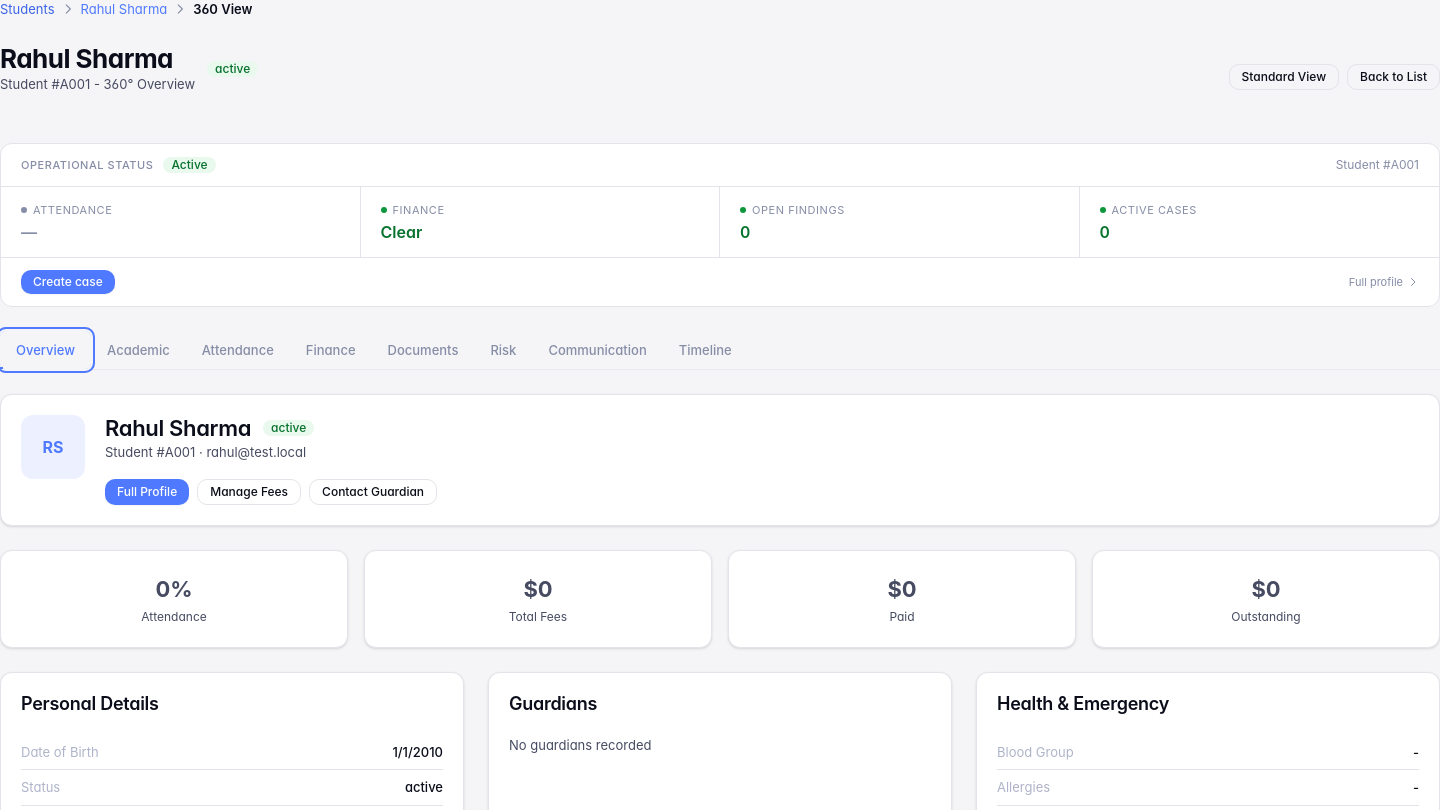
Test: Student 360 page — lifecycle & documents › P15 — Communication tab shows real context-linked messages
Note: The tab is mounted lazily — clicking it triggers the real fetch.
What coordinates should you click on to do the following:
click the tab "Communication"
I would click on:
 (598, 350)
Its box is [532,331,663,369].
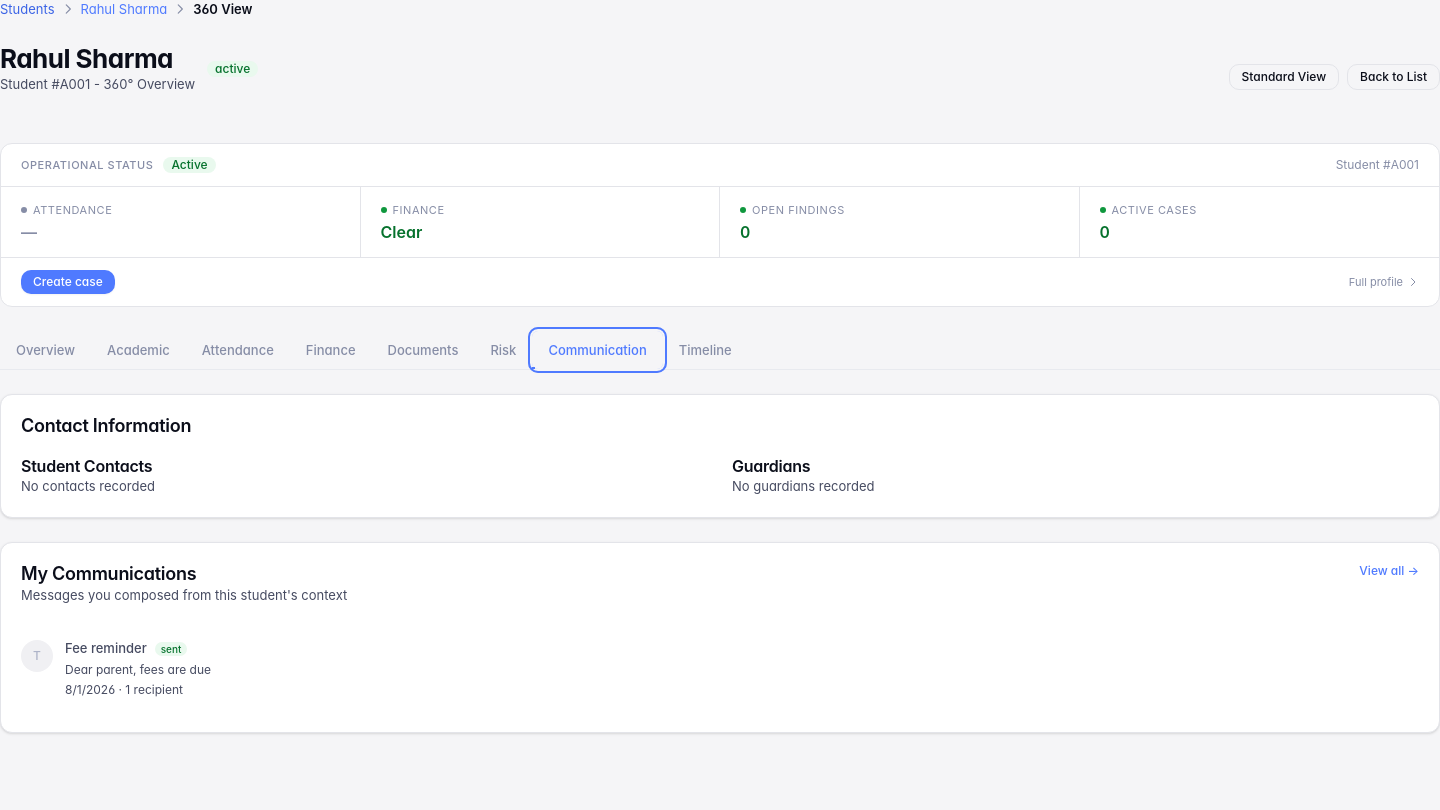
Now the text "Fee reminder" is shown, box [65,638,147,660]
Now the text "sent" is shown, box [155,642,187,656]
